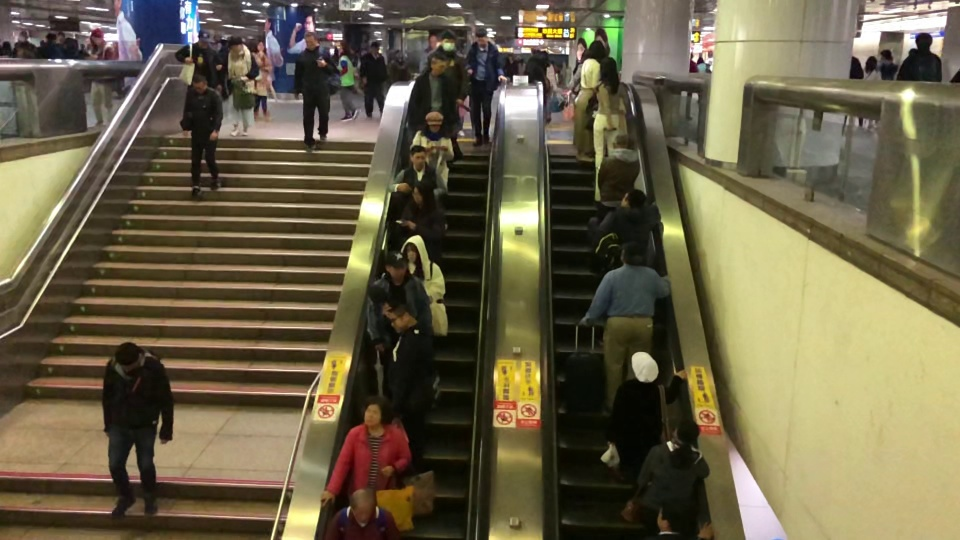person_head: (358, 395, 389, 425), (658, 500, 686, 531), (349, 487, 376, 518), (671, 419, 700, 445), (115, 342, 139, 368), (386, 303, 408, 330), (634, 359, 658, 382), (385, 257, 407, 281), (622, 242, 644, 266), (621, 188, 646, 208), (411, 181, 432, 204), (408, 144, 426, 167), (430, 53, 448, 74), (613, 133, 633, 151), (600, 57, 617, 78), (440, 28, 455, 51), (914, 31, 933, 48), (587, 41, 604, 58), (191, 73, 207, 91), (425, 113, 441, 131), (304, 31, 320, 48), (474, 27, 488, 46), (405, 241, 418, 261), (369, 40, 382, 55), (229, 38, 243, 51), (880, 49, 893, 62), (91, 31, 103, 45), (338, 41, 352, 53), (198, 31, 208, 47), (865, 55, 877, 67), (428, 33, 437, 48), (17, 31, 29, 42), (257, 40, 264, 51), (530, 47, 539, 55), (697, 56, 704, 64)
person_vbox: (583, 242, 672, 411), (101, 342, 175, 519), (319, 395, 411, 509), (605, 358, 687, 478), (634, 418, 710, 528), (382, 302, 436, 433), (365, 256, 435, 354), (294, 31, 341, 153), (181, 73, 223, 202), (592, 57, 629, 203), (595, 188, 660, 267), (464, 26, 506, 147), (404, 241, 448, 337), (407, 53, 458, 134), (571, 41, 604, 163), (325, 487, 397, 540), (597, 132, 639, 222), (409, 113, 454, 191), (224, 38, 259, 138), (387, 144, 445, 199), (86, 31, 117, 129), (397, 181, 445, 244), (175, 31, 221, 90), (436, 27, 471, 104), (358, 39, 388, 118), (896, 31, 942, 81), (336, 41, 360, 122), (252, 40, 274, 123), (523, 46, 551, 96), (13, 32, 36, 59), (880, 48, 896, 81), (864, 55, 881, 80), (849, 55, 864, 79), (696, 56, 705, 72)
